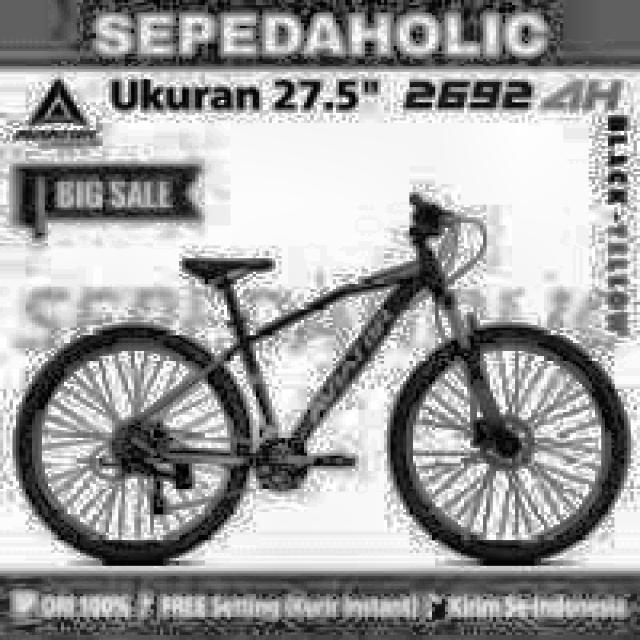motorcycle: (14, 178, 622, 567)
